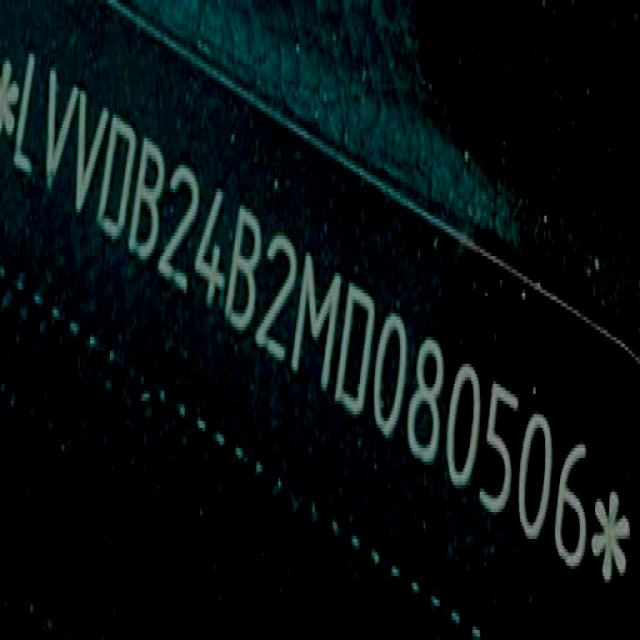0: (512, 389, 565, 557), (437, 344, 491, 500), (366, 296, 418, 455)
2: (250, 220, 309, 378), (152, 154, 209, 312)
4: (187, 172, 241, 326)
5: (472, 364, 530, 530)
6: (547, 422, 601, 582)
8: (399, 324, 454, 482)
B: (123, 129, 174, 278), (225, 209, 262, 337)
D: (329, 270, 387, 433), (88, 104, 143, 254)
L: (8, 45, 61, 194)
M: (288, 244, 349, 409)
V: (75, 89, 109, 217), (46, 62, 78, 196)
